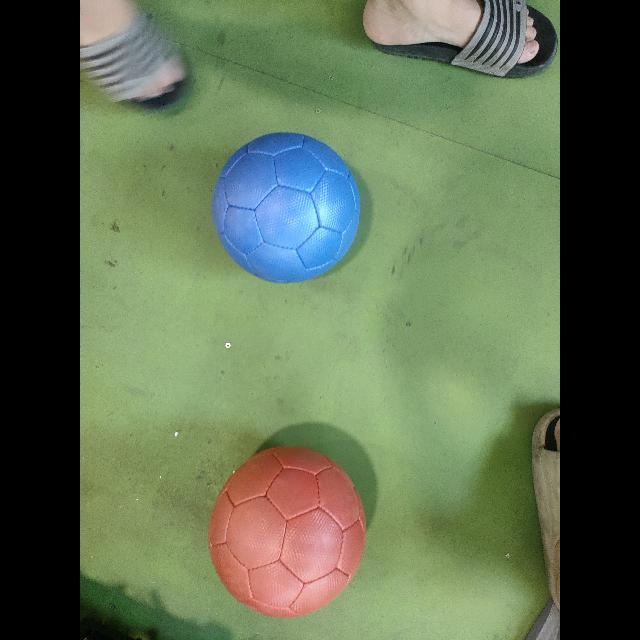B: (212, 132, 360, 282)
R: (208, 446, 366, 618)
